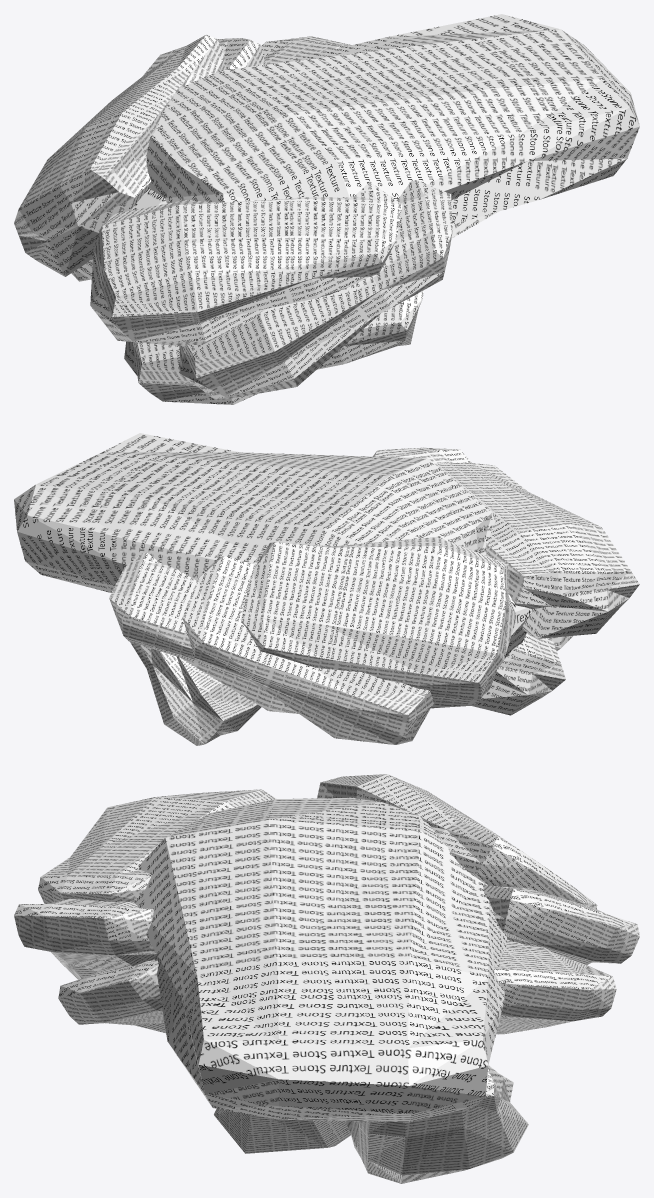
File: Stone_docks01.fbx
The picture shows the model from 3 angles, top to bottom: view 1: azimuth 30°, elevation 25°; view 2: azimuth 150°, elevation 25°; view 3: azimuth 270°, elevation 25°; orthographic projection. The views are drawn at different scales.
Visible parts, largest first — view 1: Stone_docks01; view 2: Stone_docks01; view 3: Stone_docks01.
Boxes of the visible parts, left/top/right/bottom form: Stone_docks01: left=14, top=14, right=639, bottom=404; Stone_docks01: left=14, top=433, right=639, bottom=745; Stone_docks01: left=14, top=774, right=639, bottom=1183.
Size of the model in its own units: 831 by 364 by 697.
1 material, 1 textured.
